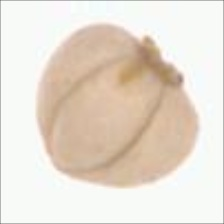L5: (45, 56, 164, 175), (125, 30, 188, 90)
L6: (33, 21, 200, 189)
